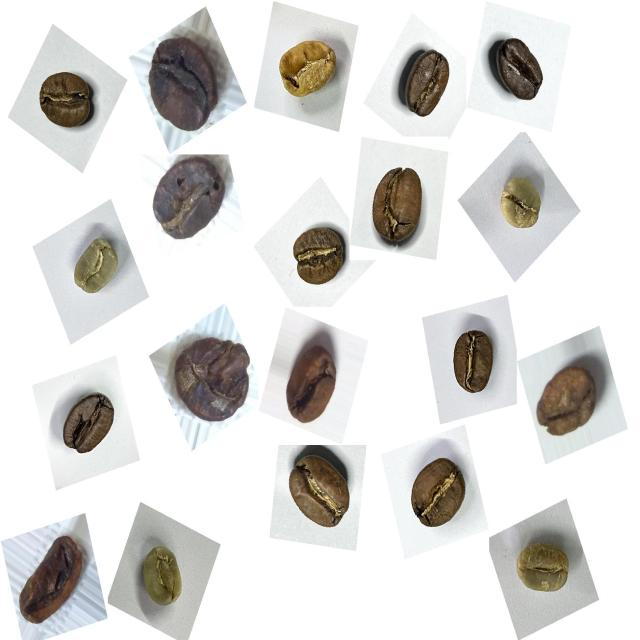bad: (141, 23, 234, 143), (164, 322, 260, 433), (10, 522, 94, 634), (145, 153, 235, 254), (531, 346, 610, 447), (280, 324, 352, 431)
dark: (54, 381, 126, 469), (485, 26, 555, 115)
green: (504, 529, 580, 610), (130, 534, 196, 620), (62, 230, 129, 310), (490, 166, 552, 244)
light: (267, 25, 347, 113)
medium: (275, 448, 362, 546), (360, 154, 436, 256), (401, 450, 476, 542), (392, 42, 460, 130), (282, 215, 353, 298), (30, 62, 101, 142), (438, 319, 504, 405)
